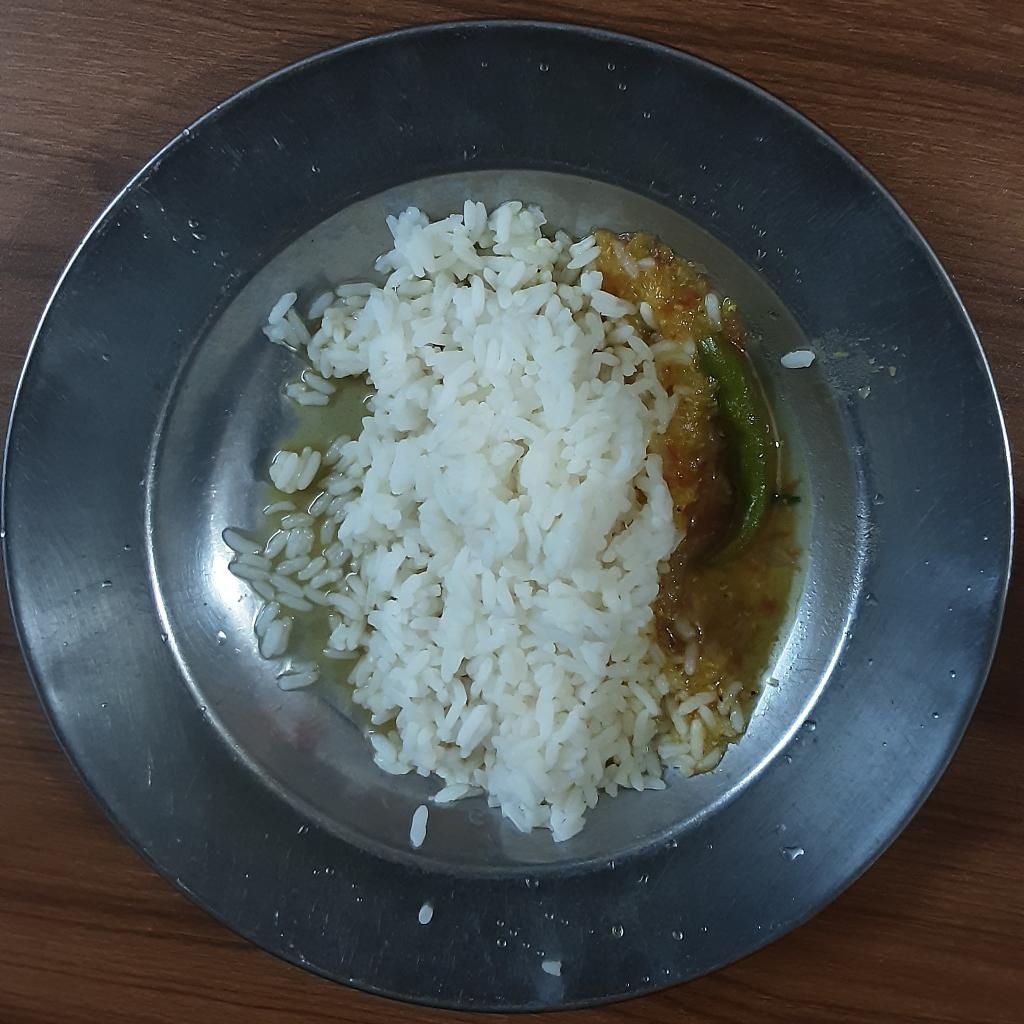daal: (608, 230, 809, 708)
rice: (227, 194, 753, 848)
